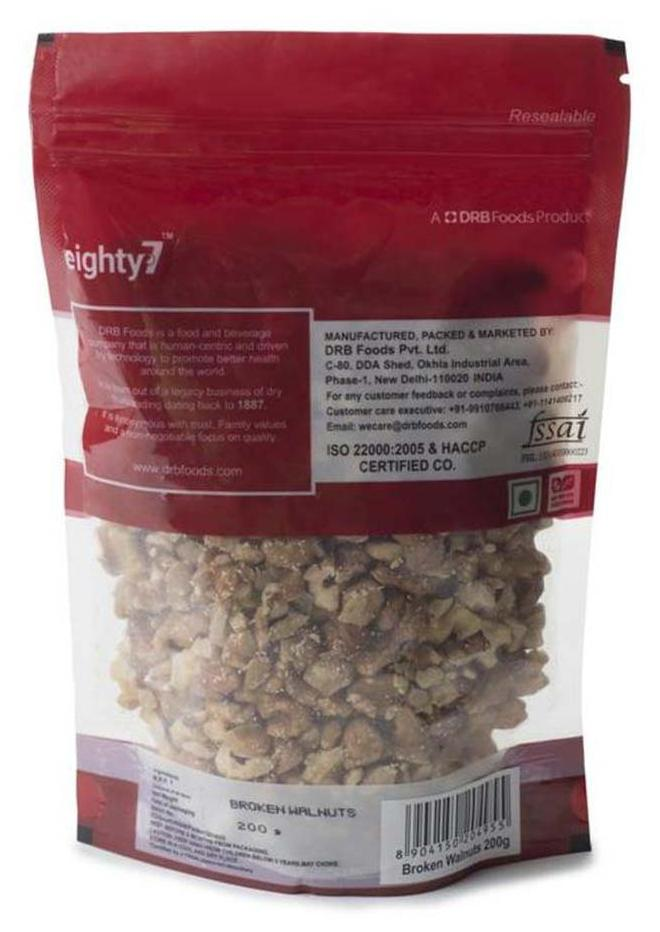fssai: (521, 410, 588, 446)
